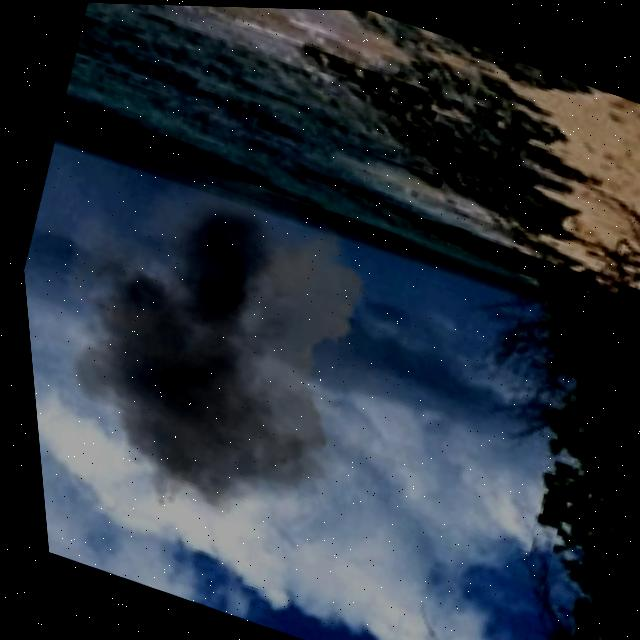Smoke: (23, 118, 452, 590)
